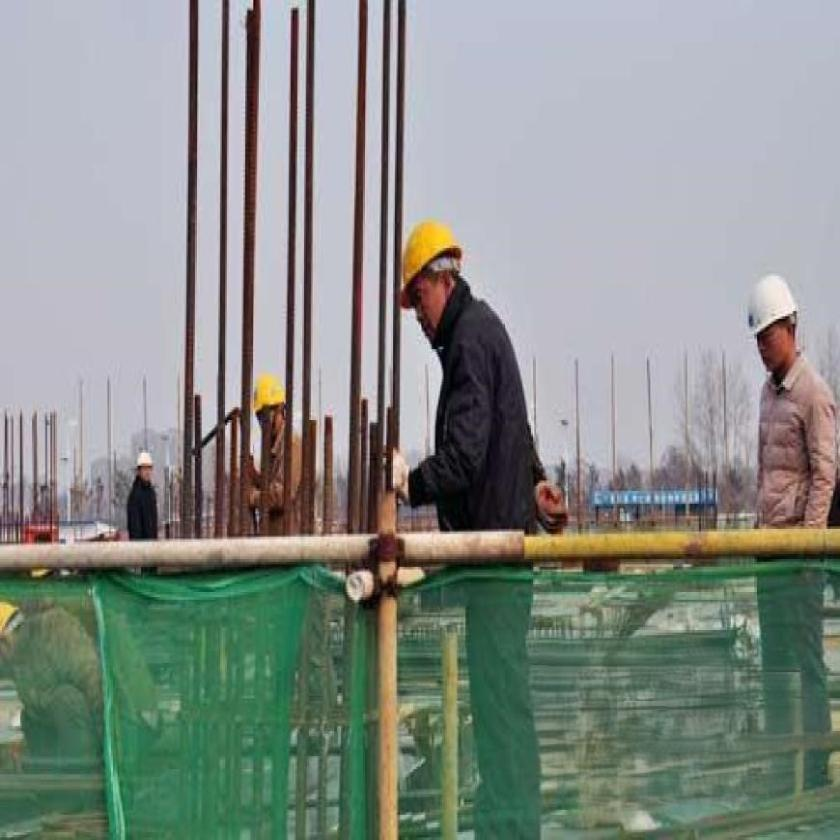Con_casco: (385, 212, 468, 331), (743, 274, 801, 373)
